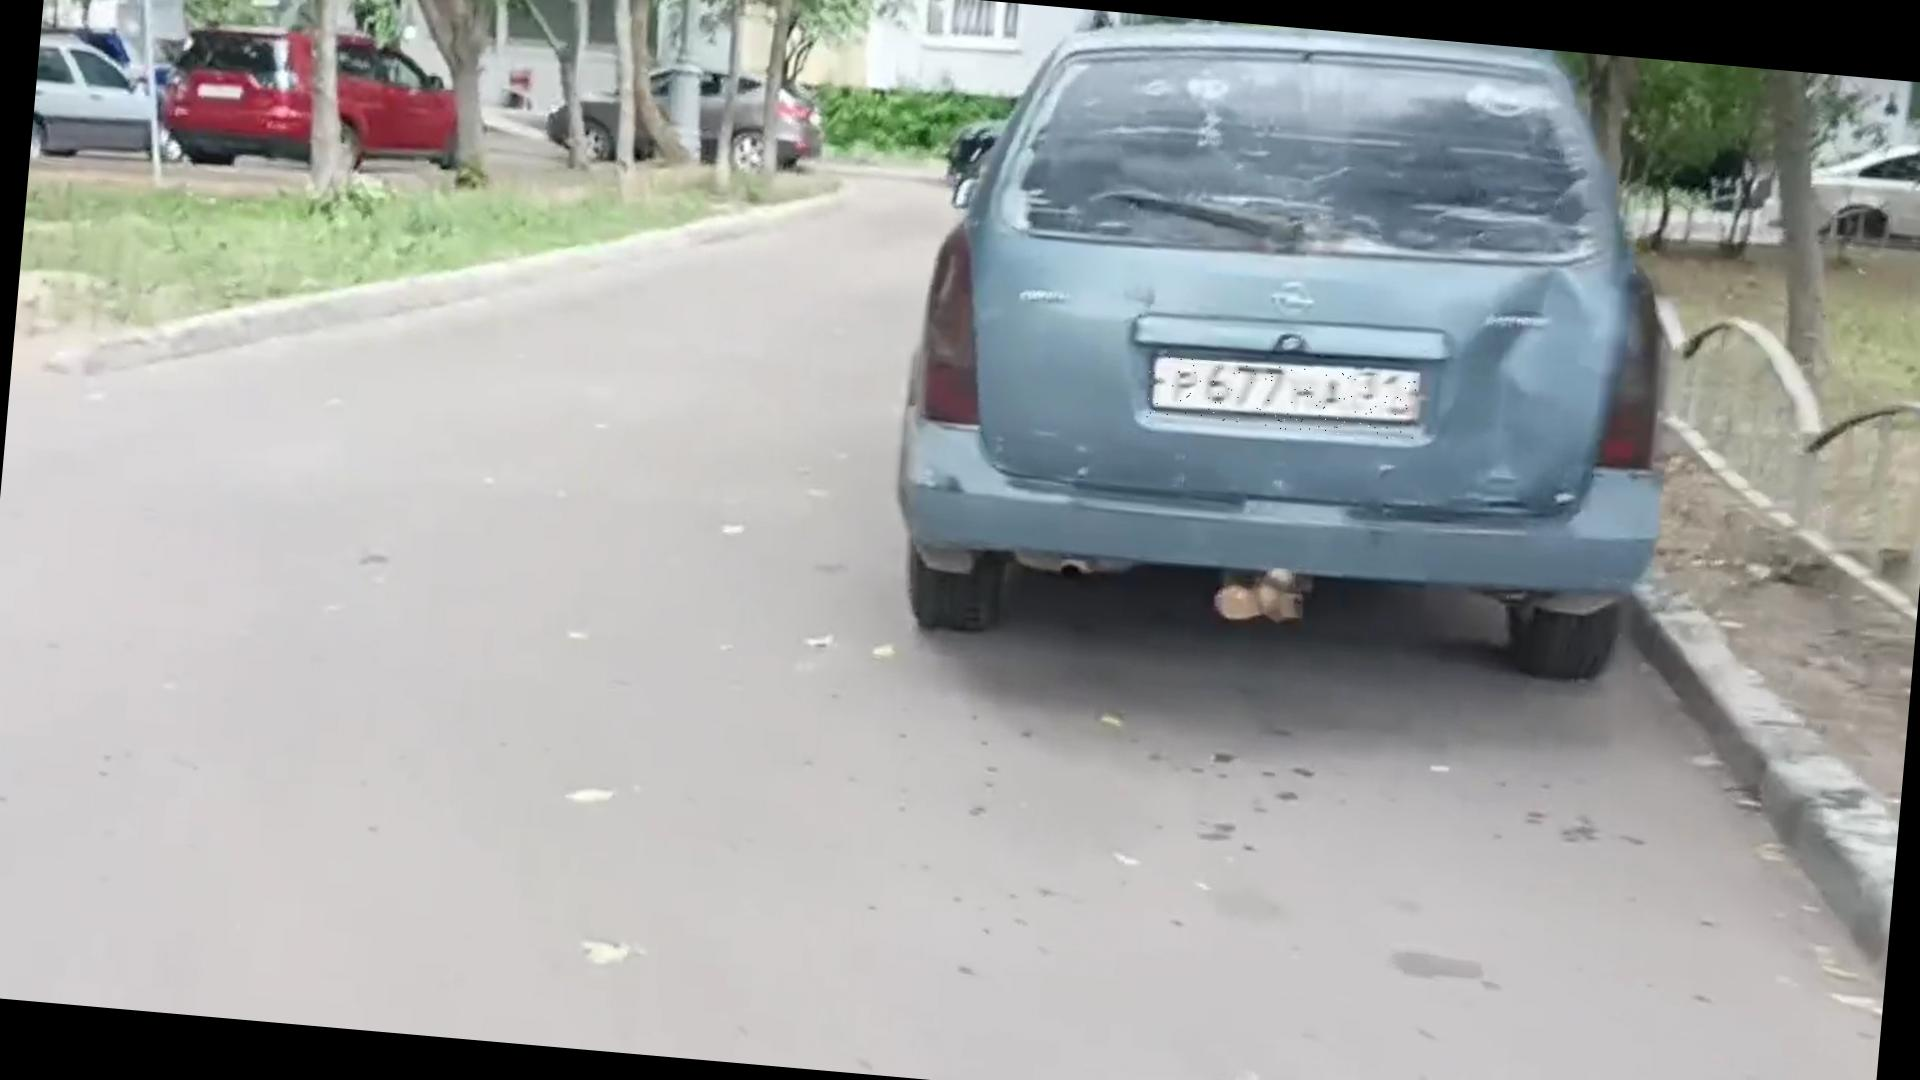plate: (1147, 357, 1419, 442)
